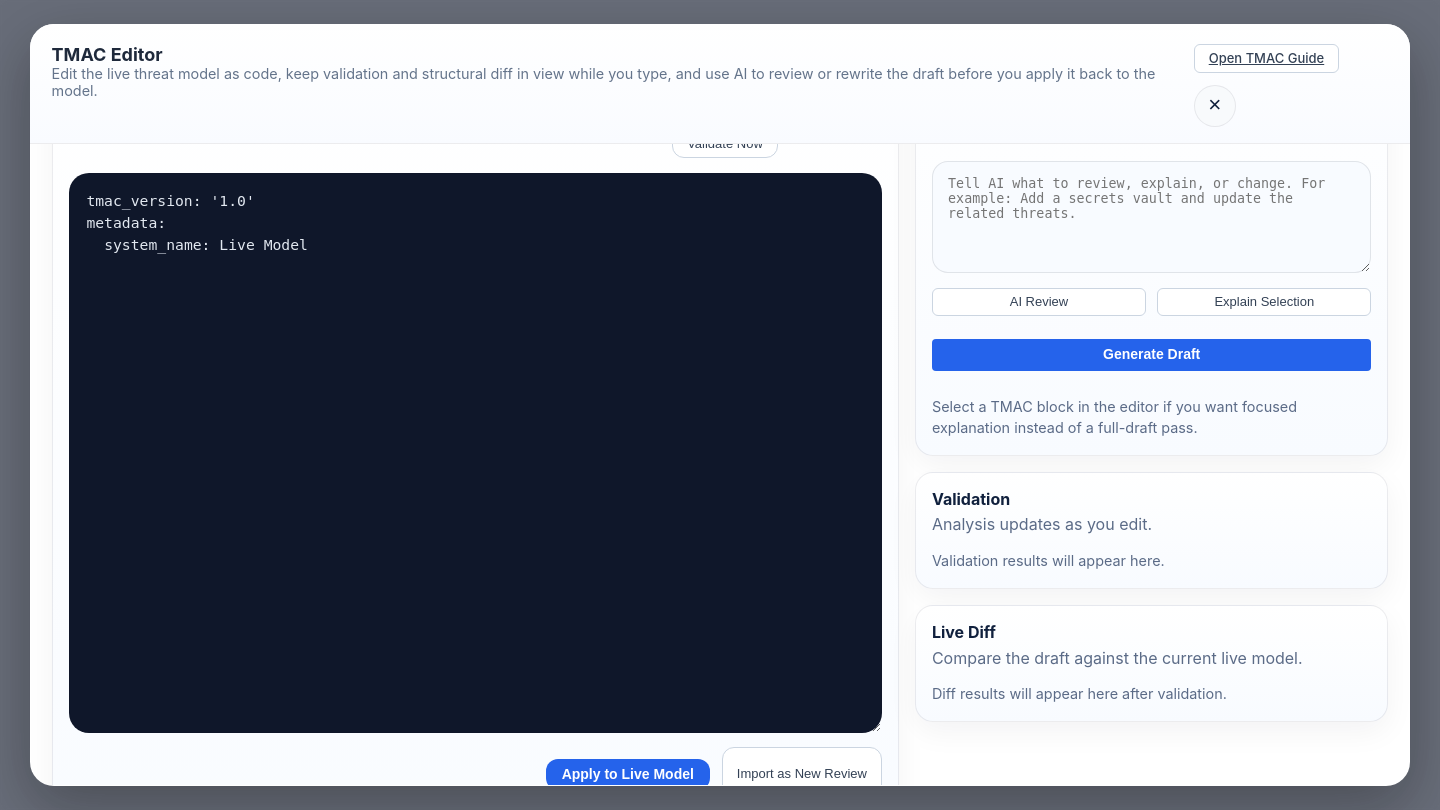
Test: ThreatModelCodeModal › validates editor content and renders the summary and live diff
(page scrolled)
Replace the text in the text box with placeholder "The live TMAC document loads here. You can also paste YAML or JSON." with "tmac_version: '1.0'" at (475, 452), box [69,172,882,732]
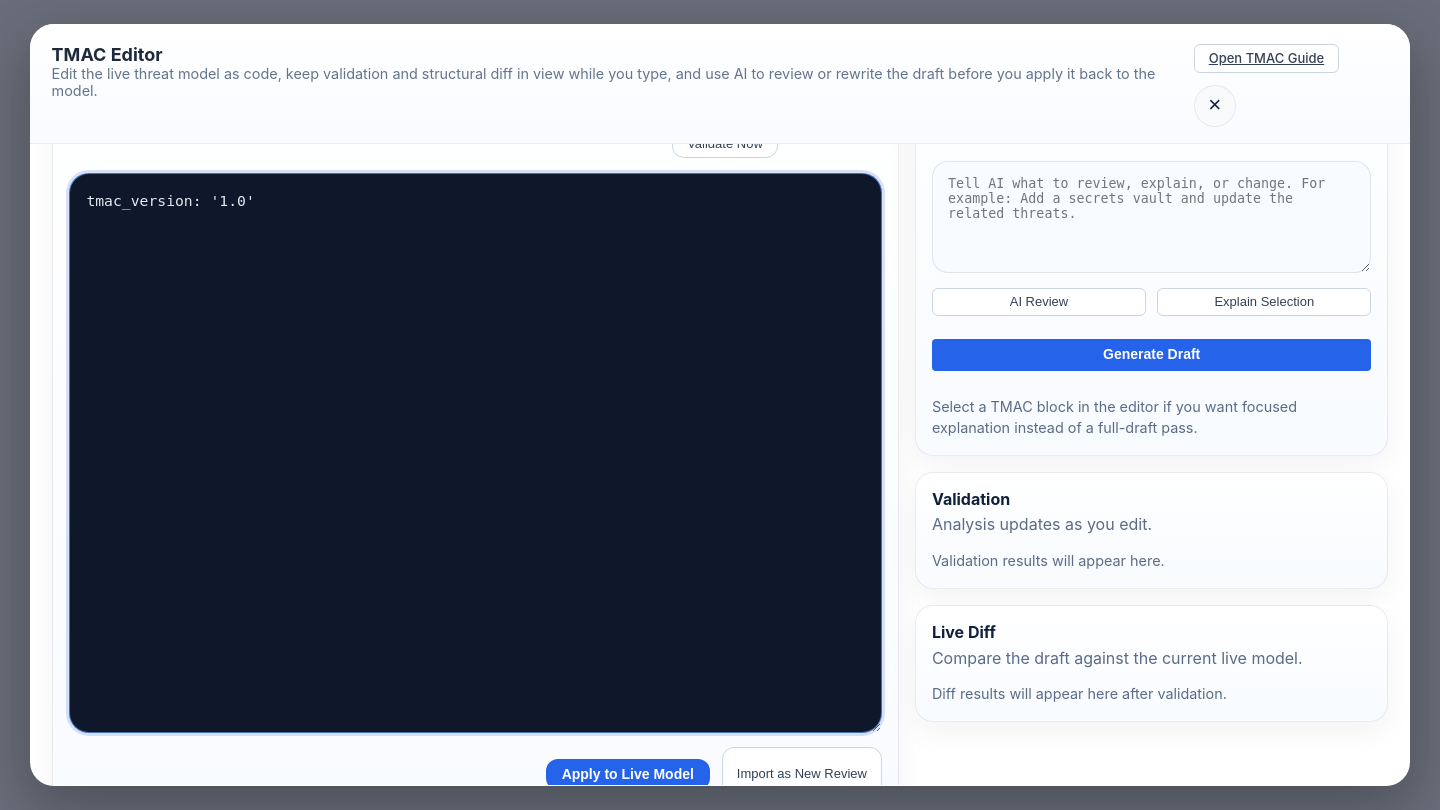
Click the button "Validate Now" at (725, 144), box [672,130,778,158]
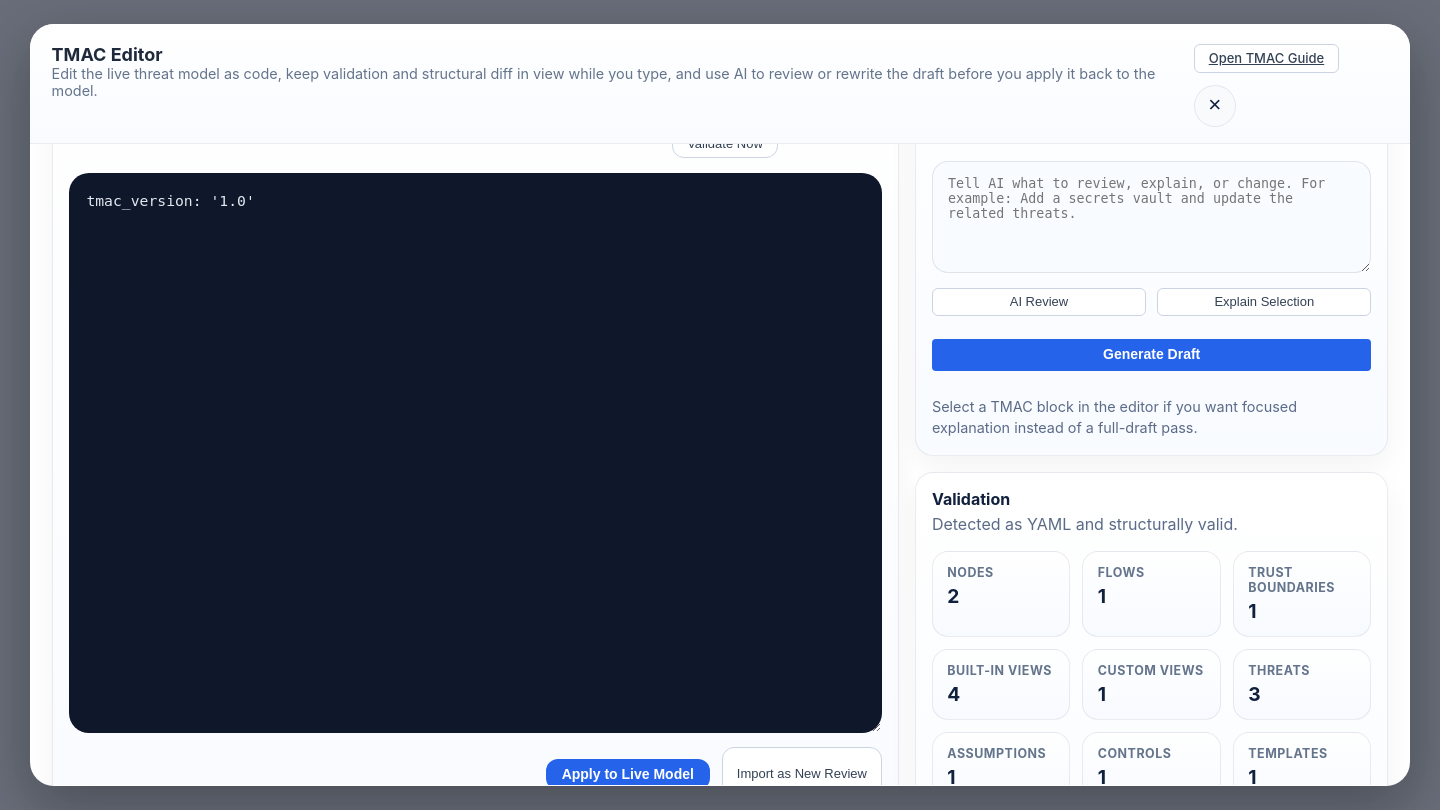
Check: the text "Detected as YAML and structurally valid." is shown, box [932,513,1238,537]
Check: the text "Nodes" is shown, box [947,565,994,580]
Check: the text "2" is shown, box [947,584,959,608]
